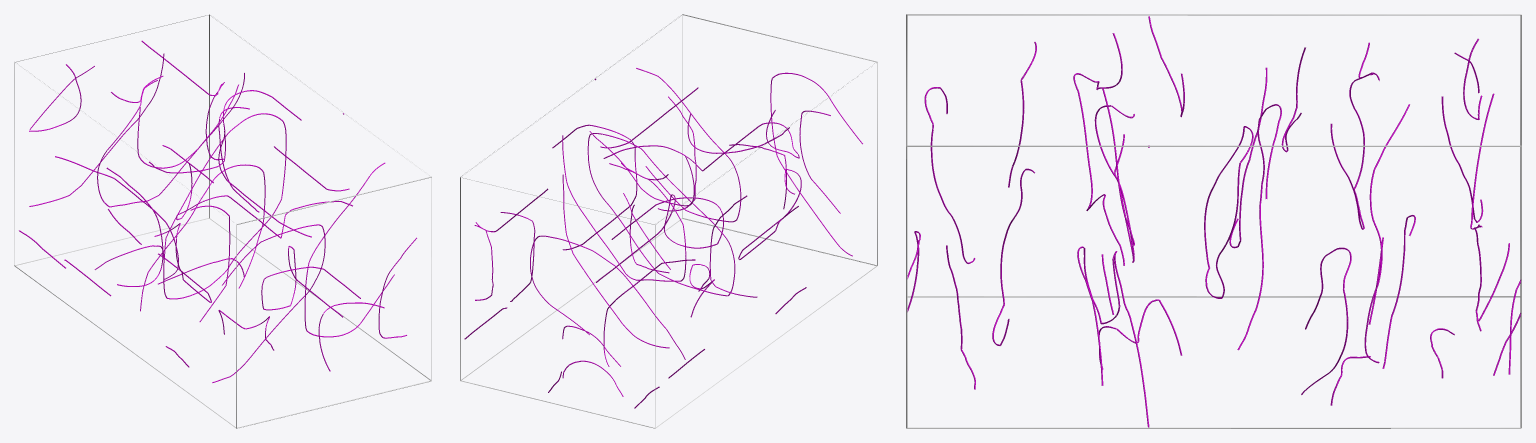
The picture shows the model from 3 angles, left to right: view 1: azimuth 30°, elevation 25°; view 2: azimuth 150°, elevation 25°; view 3: azimuth 270°, elevation 25°; orthographic projection. The views are drawn at different scales.
Visible parts, largest first — view 1: Shape_IndexedLineSet.001, Shape_IndexedLineSet; view 2: Shape_IndexedLineSet.001, Shape_IndexedLineSet; view 3: Shape_IndexedLineSet.001, Shape_IndexedLineSet.
Part boxes in pixels (left/top/right/bottom): Shape_IndexedLineSet.001: left=19, top=40, right=416, bottom=382; Shape_IndexedLineSet: left=14, top=14, right=431, bottom=428; Shape_IndexedLineSet.001: left=464, top=68, right=862, bottom=408; Shape_IndexedLineSet: left=460, top=14, right=877, bottom=428; Shape_IndexedLineSet.001: left=907, top=16, right=1520, bottom=427; Shape_IndexedLineSet: left=906, top=14, right=1521, bottom=428.
Bounding box in the file's own units: 235 × 235 × 463.
